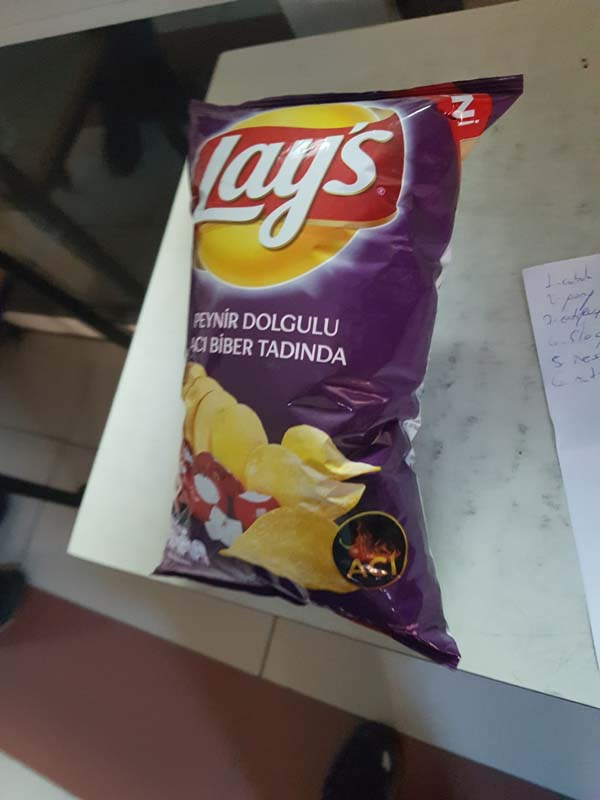layspeynirsoslu: (138, 66, 532, 669)
